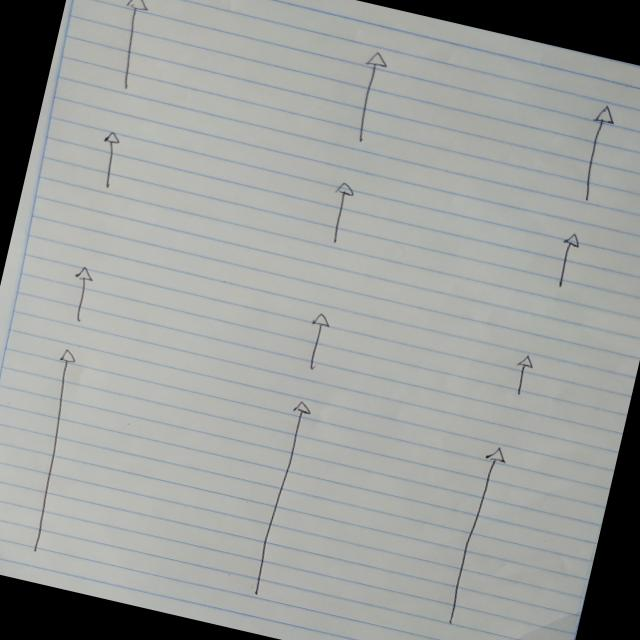arrow_line_up: (15, 347, 86, 552), (247, 398, 314, 598), (444, 443, 509, 630), (572, 102, 618, 205), (104, 0, 155, 92), (346, 48, 392, 150), (321, 179, 356, 246), (62, 264, 98, 326), (91, 130, 126, 190), (550, 230, 582, 291), (301, 310, 332, 372), (510, 352, 536, 398)
